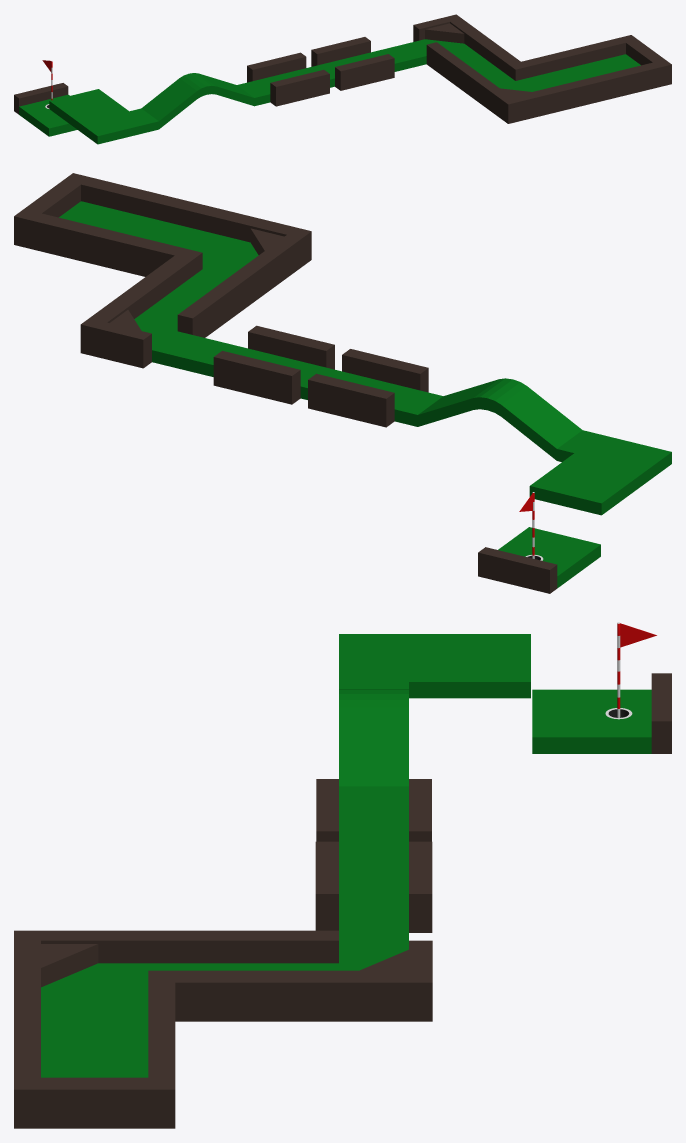
Rendered from Level 2 Course.fbx.
3 renders of one model, top to bottom at view 1: azimuth 30°, elevation 25°; view 2: azimuth 150°, elevation 25°; view 3: azimuth 270°, elevation 25°, orthographic. The views are drawn at different scales.
Visible parts, largest first — view 1: Wall, Course1, Course2, Wall2, Corner2; view 2: Wall, Course1, Course2, Wall2; view 3: Wall, Course1, Course2, Corner1, Wall2, Pole.
Part boxes in pixels (left/top/right/bottom): Wall: left=247, top=14, right=671, bottom=123; Course1: left=49, top=39, right=640, bottom=144; Course2: left=19, top=94, right=77, bottom=136; Wall2: left=14, top=83, right=68, bottom=114; Corner2: left=425, top=23, right=464, bottom=43; Wall: left=14, top=173, right=428, bottom=427; Course1: left=59, top=201, right=671, bottom=515; Course2: left=498, top=527, right=600, bottom=588; Wall2: left=478, top=547, right=557, bottom=593; Wall: left=14, top=779, right=432, bottom=1128; Course1: left=41, top=634, right=530, bottom=1077; Course2: left=532, top=689, right=651, bottom=753; Corner1: left=41, top=944, right=98, bottom=987; Wall2: left=651, top=673, right=671, bottom=753; Pole: left=617, top=622, right=656, bottom=717.
Bounding box in the file's own units: 3456 × 423 × 2010.
